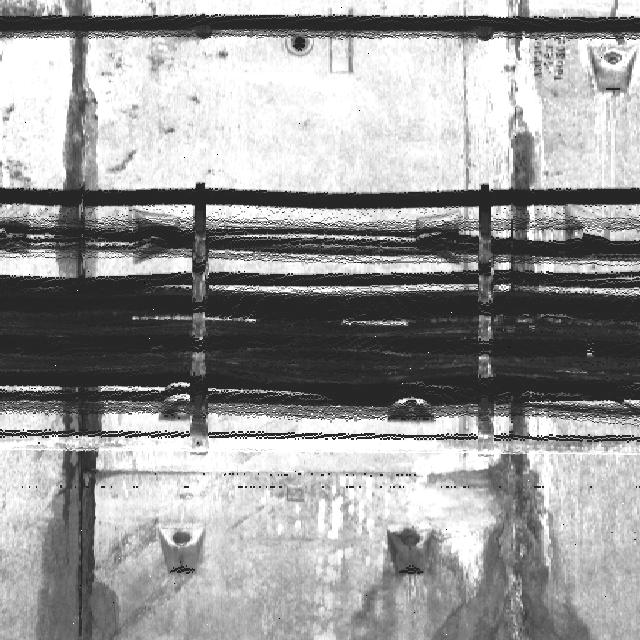leakage: (433, 414, 599, 640), (35, 392, 124, 640), (48, 1, 116, 287), (494, 4, 561, 290)
